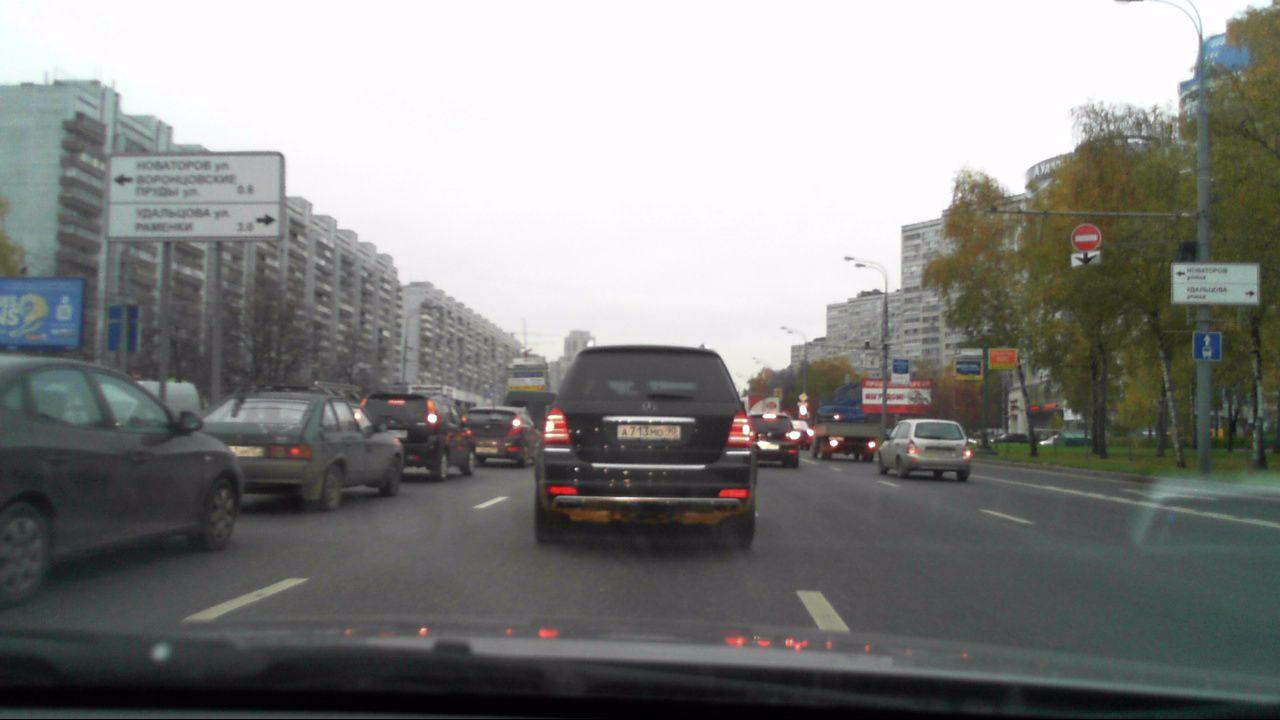2_1: (798, 392, 808, 404)
3_1: (1070, 224, 1102, 250)
5_14_1: (1191, 331, 1221, 362)
6_10_1: (1170, 261, 1258, 306)
8_14: (1071, 251, 1099, 266)
